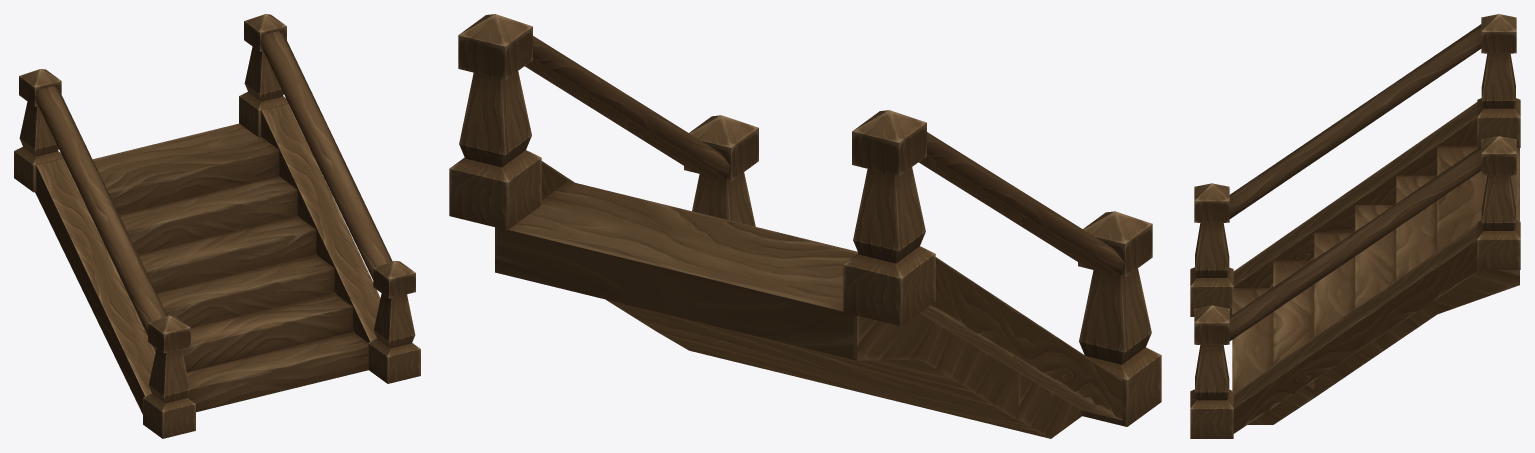
The model's file is Stairs.FBX.
3 renders of one model, left to right at view 1: azimuth 30°, elevation 25°; view 2: azimuth 150°, elevation 25°; view 3: azimuth 270°, elevation 25°, orthographic. The views are drawn at different scales.
Visible parts, largest first — view 1: Stairs; view 2: Stairs; view 3: Stairs.
Part boxes in pixels (x1,y1,x2,y2): Stairs: (14,14,420,438); Stairs: (449,14,1161,438); Stairs: (1190,14,1520,438).
Bounding box in the file's own units: 1618 × 1583 × 1613.
